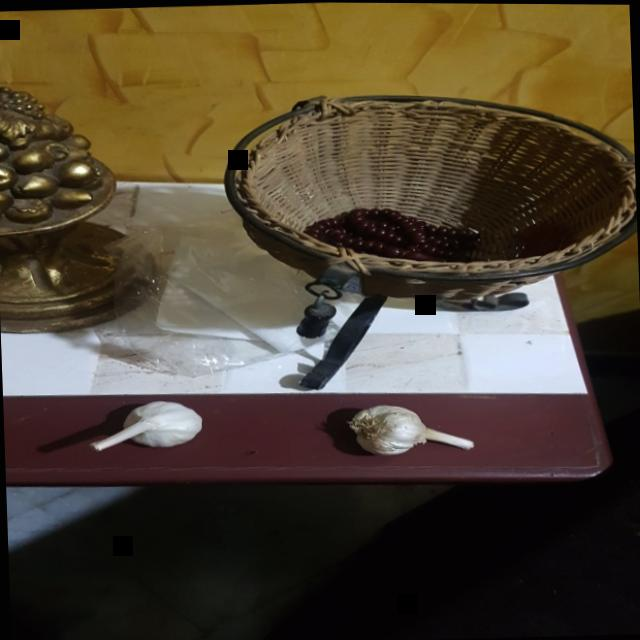garlic: (341, 394, 474, 471), (89, 390, 207, 470)
